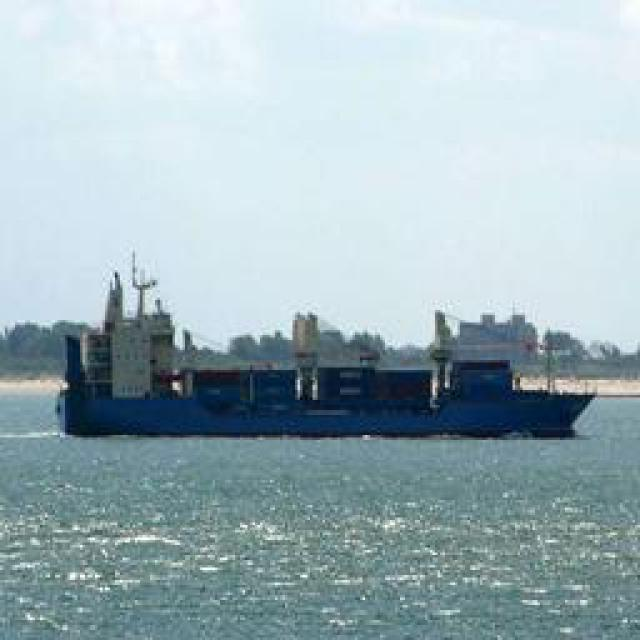Ship: (68, 332, 603, 442)
